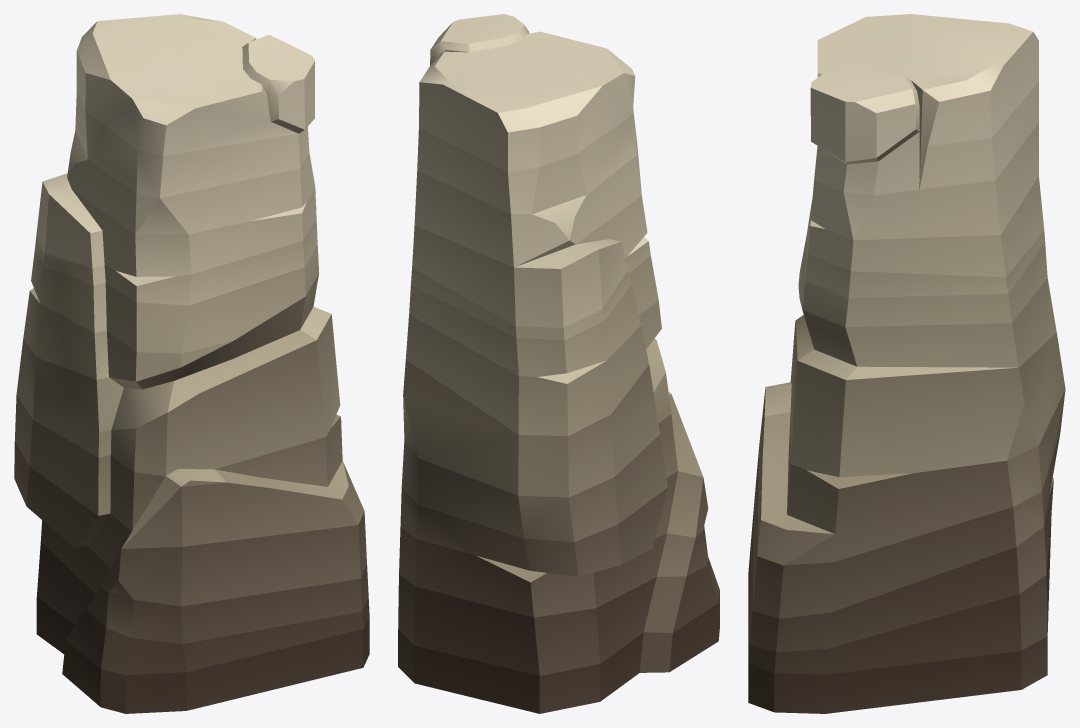
File: Canyon_Wall_4C.fbx
3 renders of one model, left to right at view 1: azimuth 30°, elevation 25°; view 2: azimuth 150°, elevation 25°; view 3: azimuth 270°, elevation 25°, orthographic. The views are drawn at different scales.
Visible parts, largest first — view 1: Canyon_Wall_4C; view 2: Canyon_Wall_4C; view 3: Canyon_Wall_4C.
Boxes of the visible parts, <box> form: Canyon_Wall_4C: <box>14,14,369,713</box>; Canyon_Wall_4C: <box>398,14,719,713</box>; Canyon_Wall_4C: <box>748,14,1065,713</box>.
Size of the model in its own units: 14.48 by 30.95 by 14.67.
